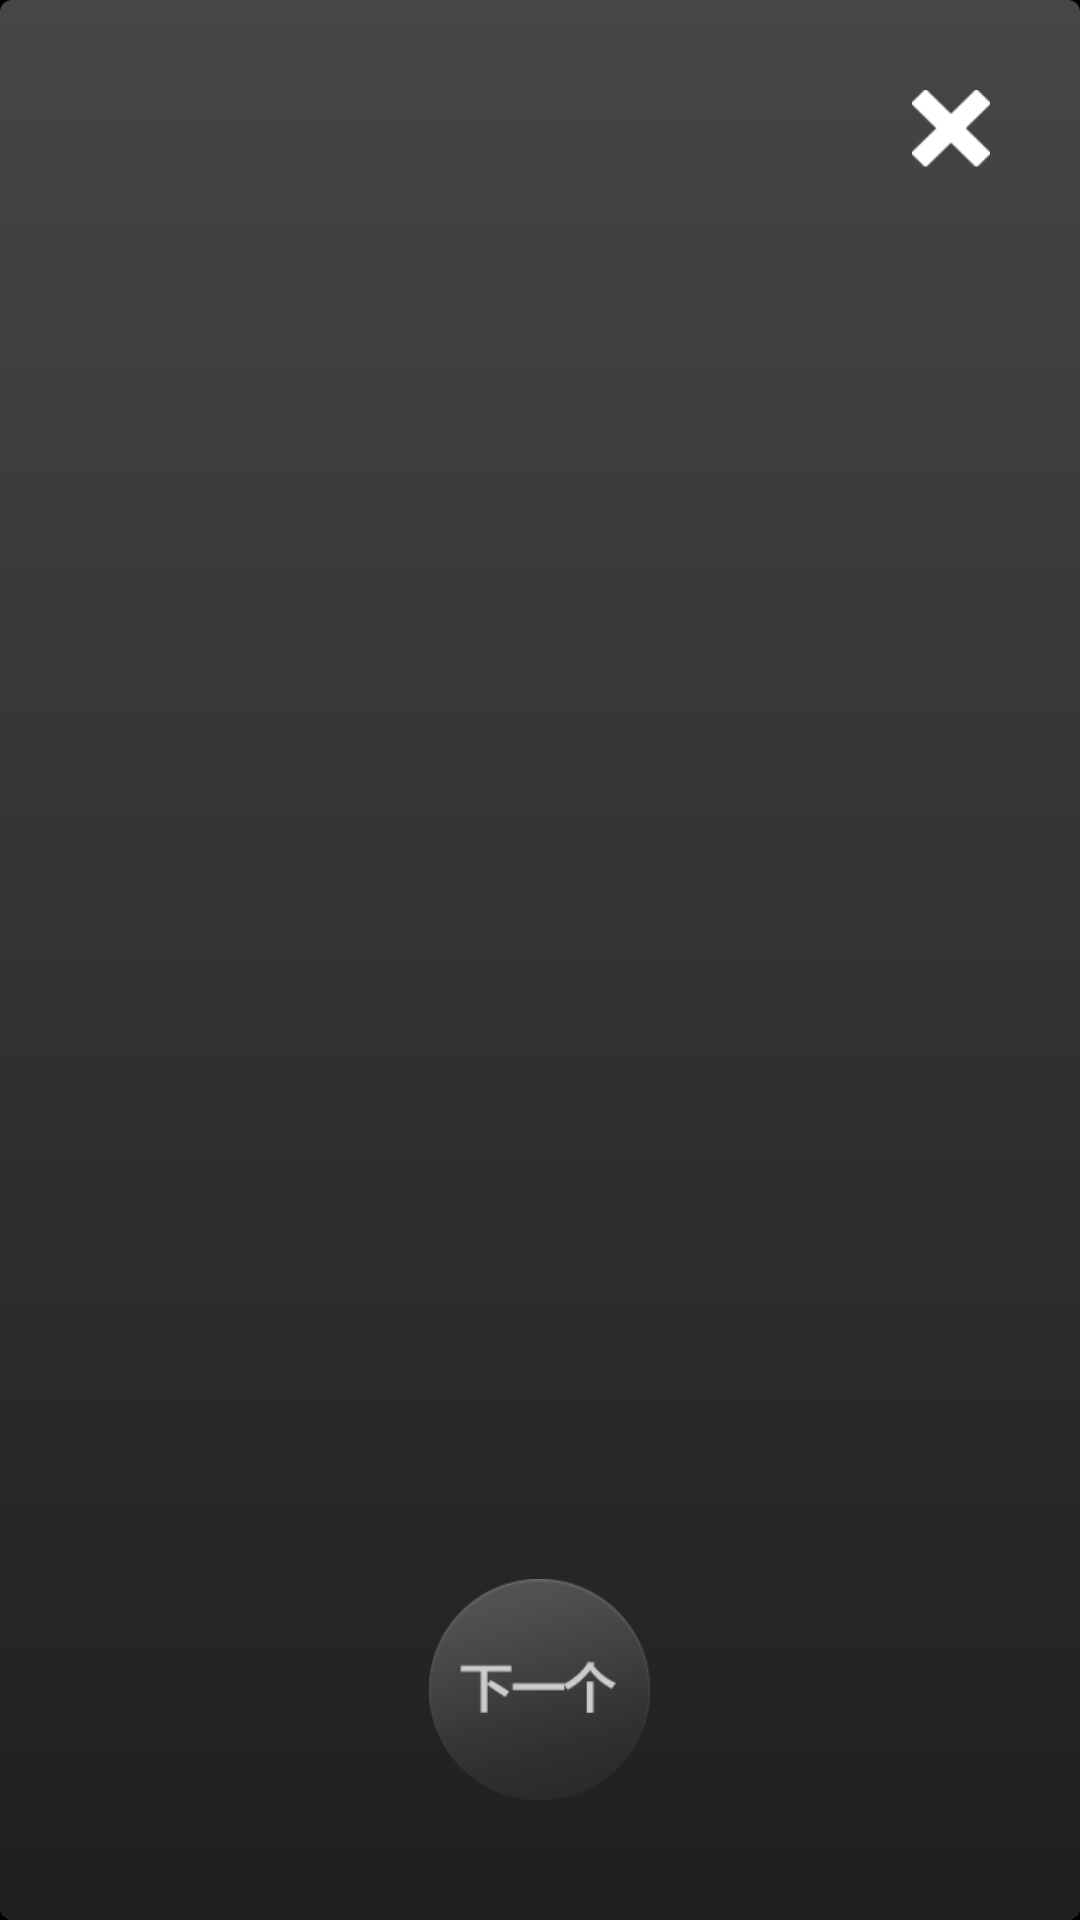

Icon bounding boxes for this 1080*1920 phone screenshot, format box=[x1, y1, x2, y2]:
close: box=[912, 90, 990, 167]
